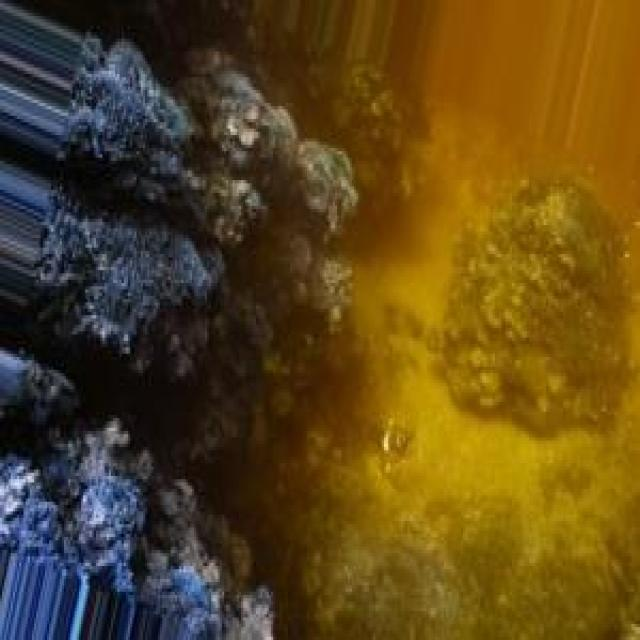Healthy: (27, 33, 332, 429), (443, 175, 637, 442)
